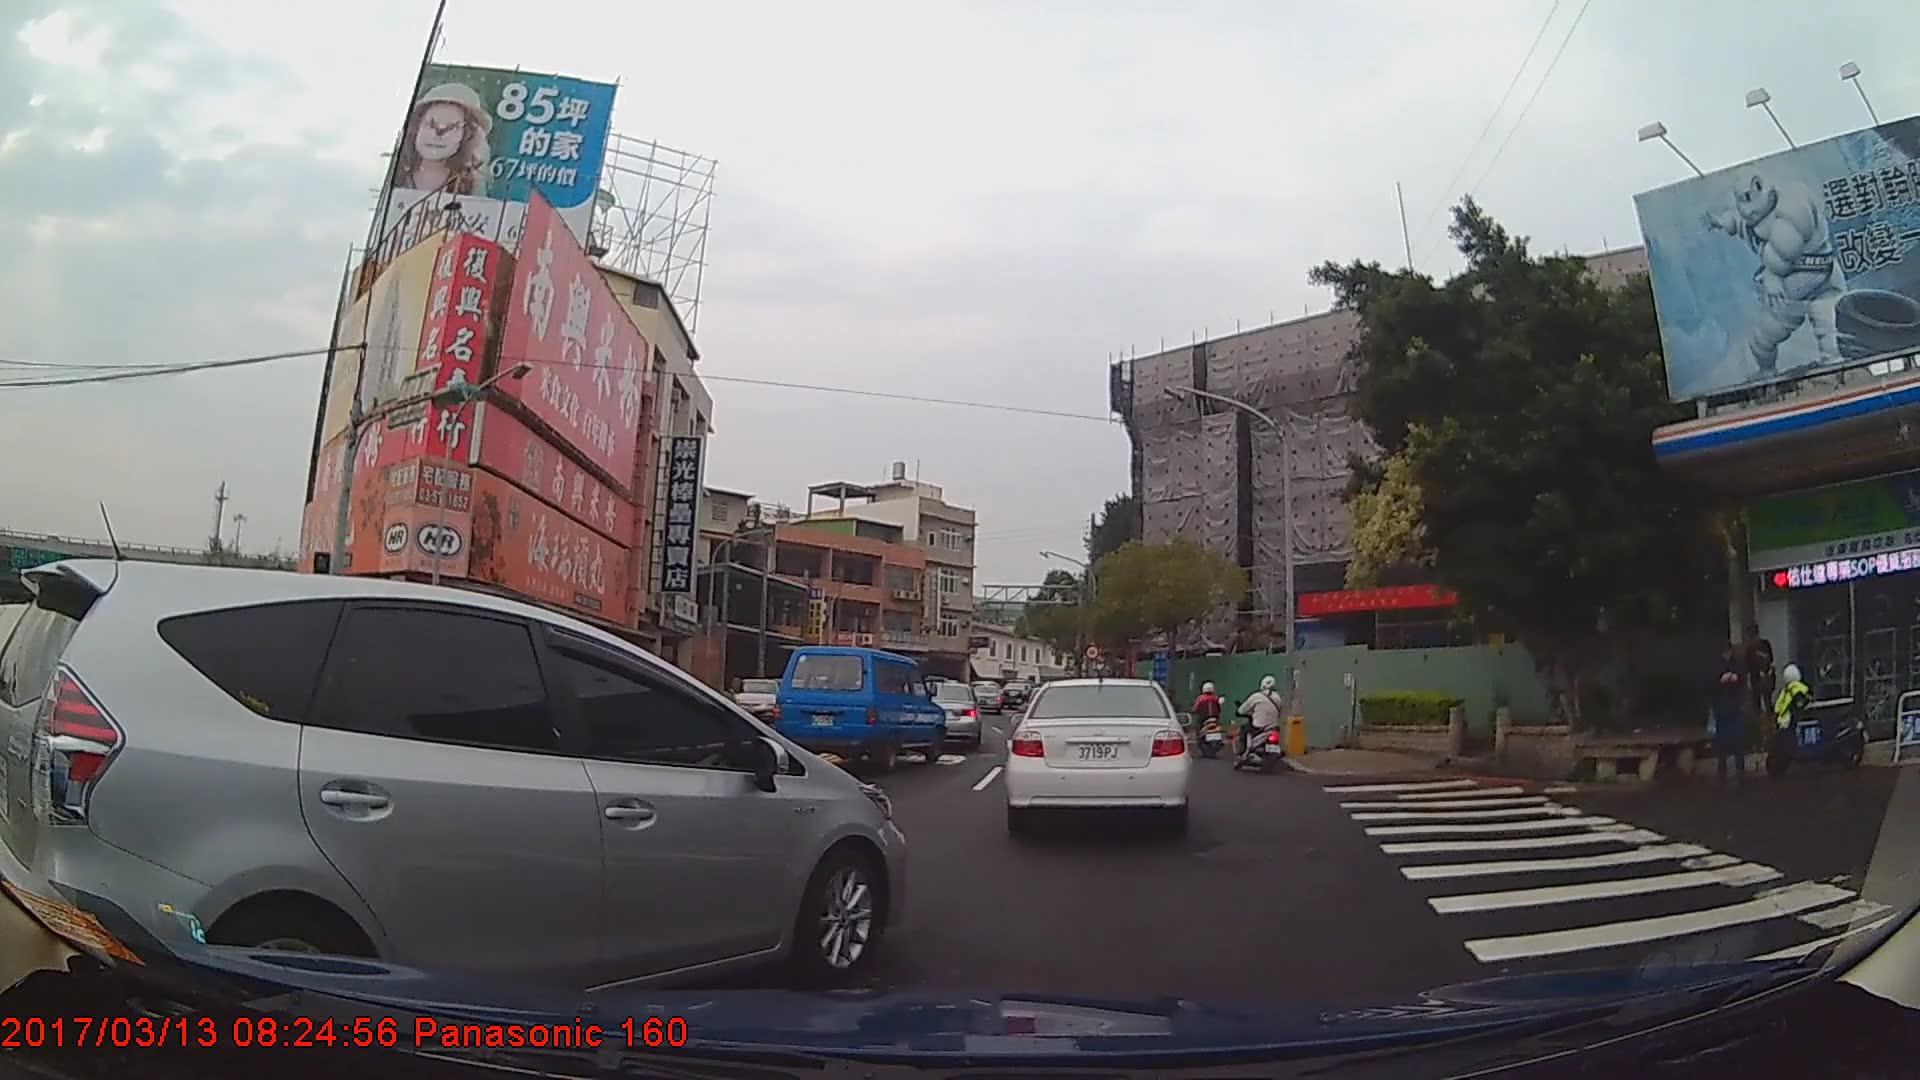pedestrian: (1706, 641, 1751, 784), (1738, 620, 1778, 739)
rider: (1234, 672, 1287, 773), (1192, 680, 1227, 758)
vehicle: (3, 557, 906, 1026), (1005, 675, 1196, 838), (773, 643, 946, 768), (912, 680, 985, 749), (726, 676, 785, 723)
